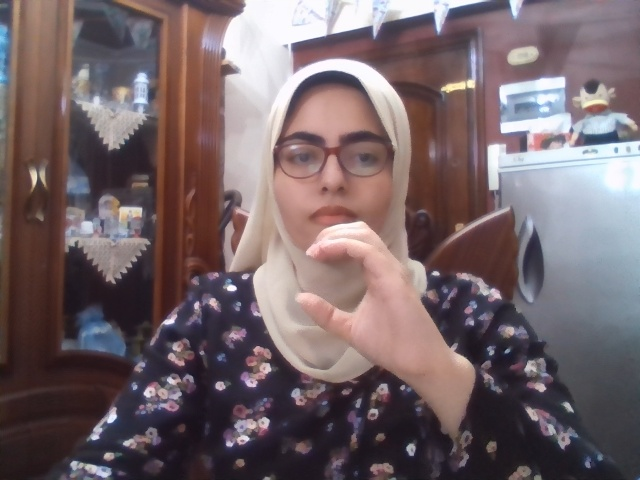C: (295, 222, 454, 386)
